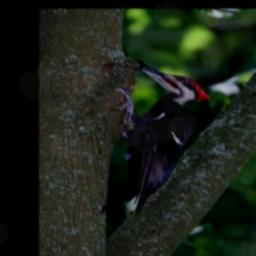Woodpecker: (99, 61, 211, 219)
